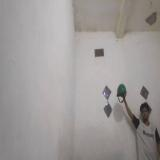Helmet: (117, 82, 128, 98)
